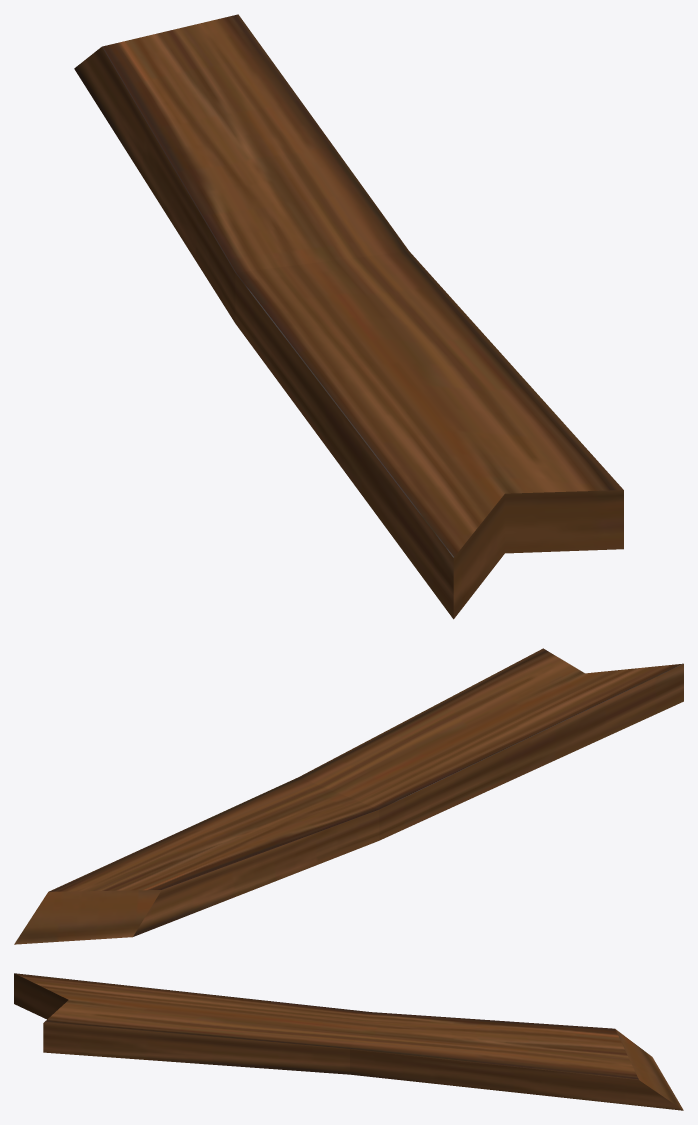
The model's file is WoodLog3.fbx.
3 views of the same model, one above another, from view 1: azimuth 30°, elevation 25°; view 2: azimuth 150°, elevation 25°; view 3: azimuth 270°, elevation 25° (orthographic). The views are drawn at different scales.
Parts seen in each view (by area): view 1: WoodLog3.001; view 2: WoodLog3.001; view 3: WoodLog3.001.
Boxes of the visible parts, left/top/right/bottom form: WoodLog3.001: left=74, top=14, right=623, bottom=619; WoodLog3.001: left=14, top=648, right=683, bottom=944; WoodLog3.001: left=14, top=973, right=683, bottom=1110.
Size of the model in its own units: 0.3678 by 0.0672 by 1.01.
1 material, 1 textured.
